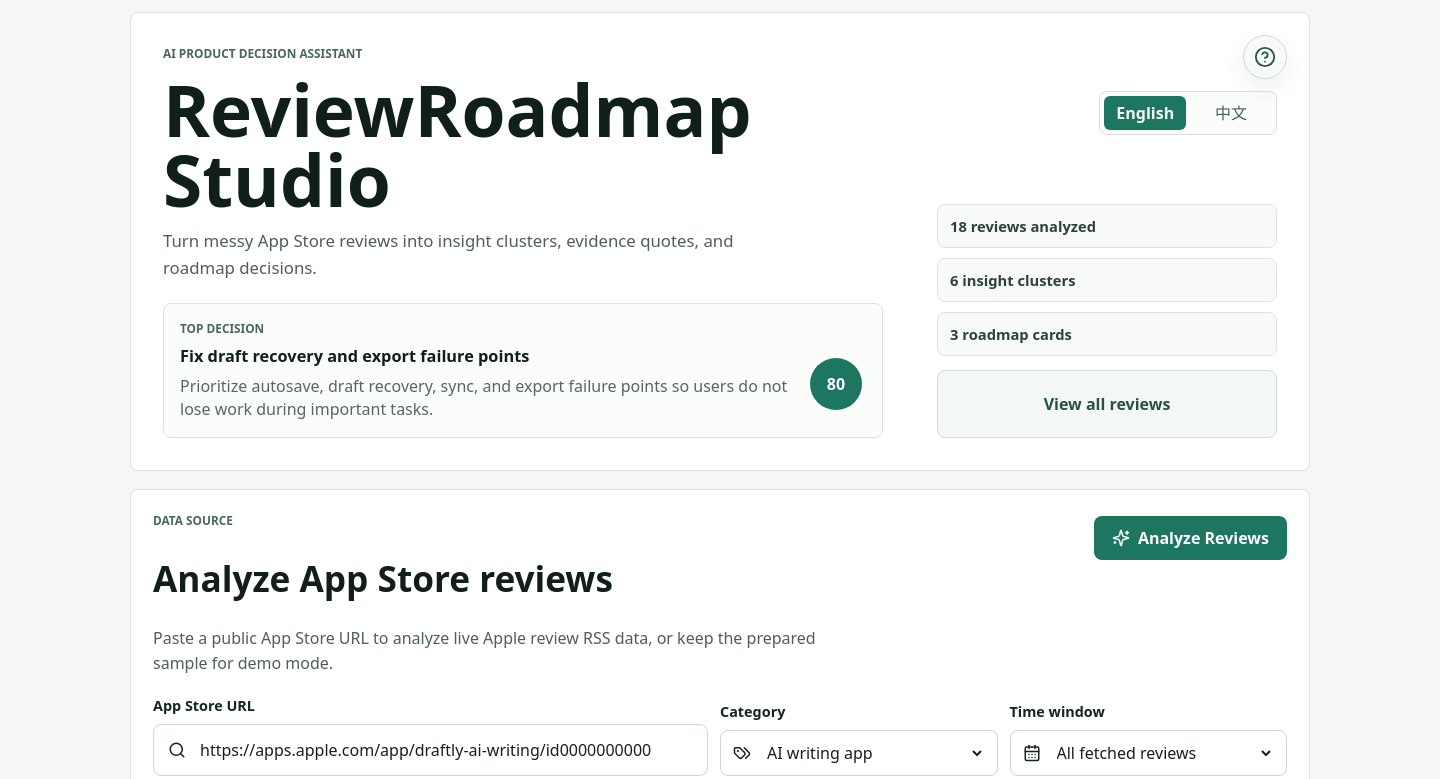
App › switches the product interface to Chinese
The image size is (1440, 779).
Click the button "中文" at (1231, 113), box [1190,96,1272,130]
(page scrolled)
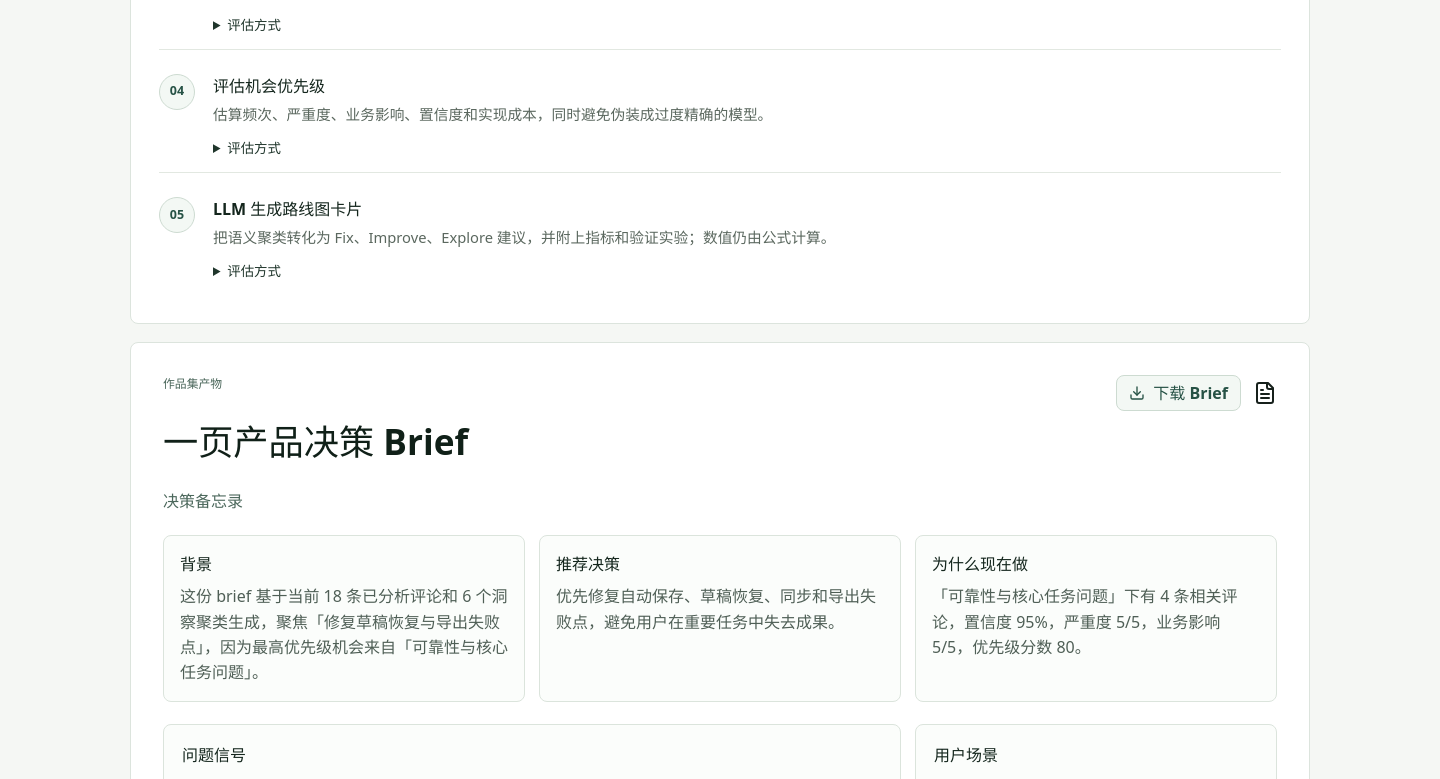
Now the text "决策备忘录" is shown, box [163,490,243,512]
Now the button "下载 Brief" is shown, box [1116,375,1241,411]
